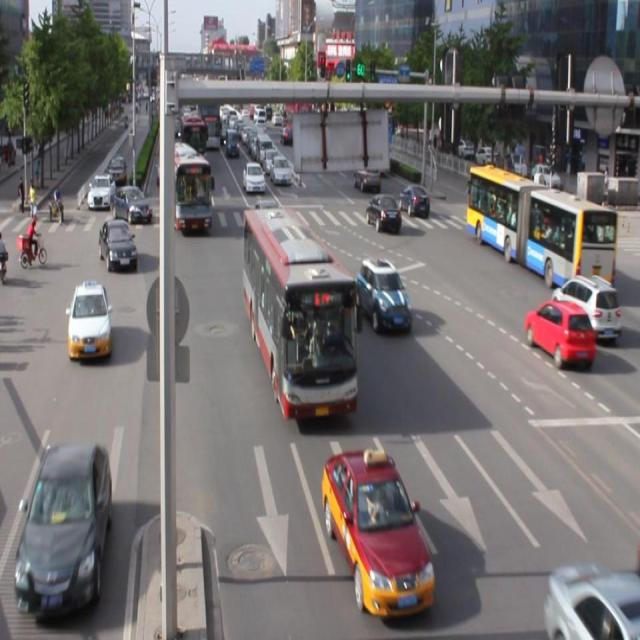car: (321, 448, 434, 612), (14, 440, 112, 612), (543, 562, 640, 640), (522, 298, 595, 366), (551, 271, 620, 339), (356, 256, 413, 332), (68, 281, 112, 361), (99, 219, 137, 273), (365, 193, 400, 229)
van: (243, 207, 355, 416), (467, 165, 615, 289)
